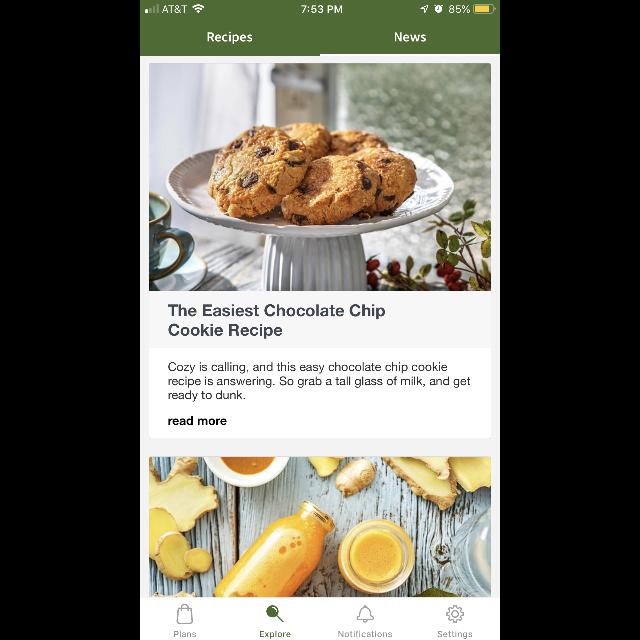icon: (177, 604, 193, 624), (266, 606, 284, 622), (356, 606, 374, 622), (446, 606, 464, 622)
image: (150, 65, 490, 292), (150, 457, 490, 597)
text: (168, 362, 470, 402), (168, 304, 386, 338), (169, 416, 227, 426), (208, 32, 252, 44), (338, 630, 392, 638), (394, 32, 426, 42), (438, 631, 472, 639), (260, 631, 292, 639), (174, 631, 196, 637)
uppertaskbar: (140, 0, 500, 14)
